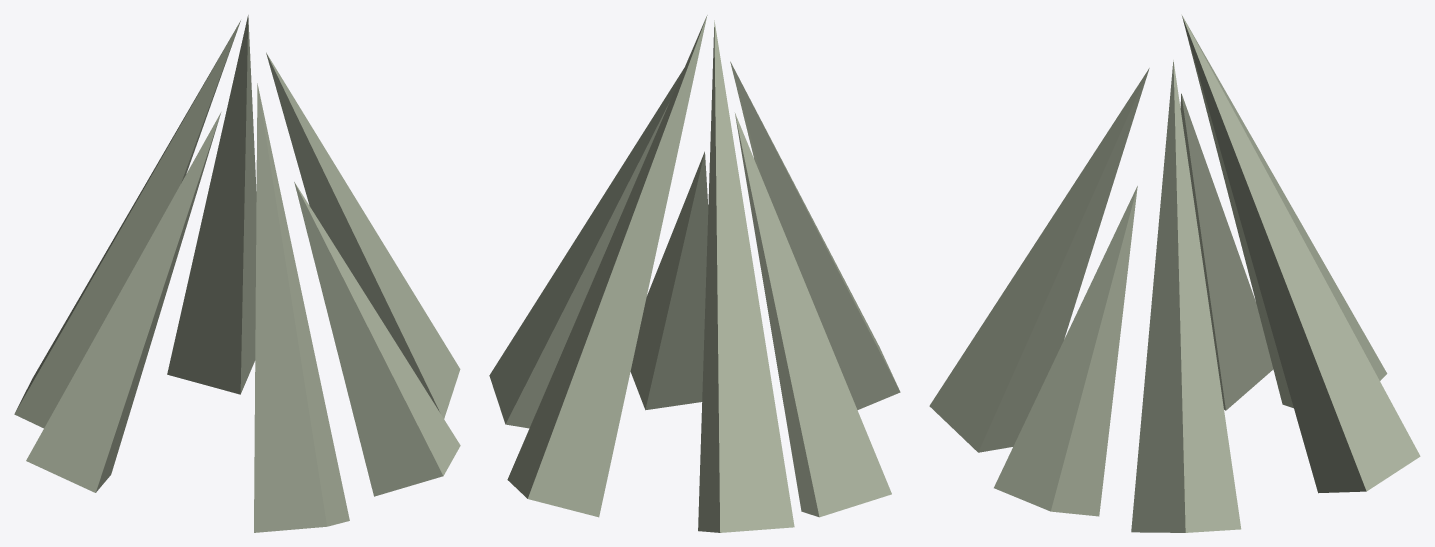
Rendered from tuft.glb.
The picture shows the model from 3 angles, left to right: view 1: azimuth 30°, elevation 25°; view 2: azimuth 150°, elevation 25°; view 3: azimuth 270°, elevation 25°; orthographic projection.
Visible parts, largest first — view 1: tuft; view 2: tuft; view 3: tuft.
Part boxes in pixels (x1,y1,x2,y2): tuft: (14,15,460,532); tuft: (489,15,900,532); tuft: (929,14,1420,532).
Size of the model in its own units: 0.2206 by 0.227 by 0.2229.
